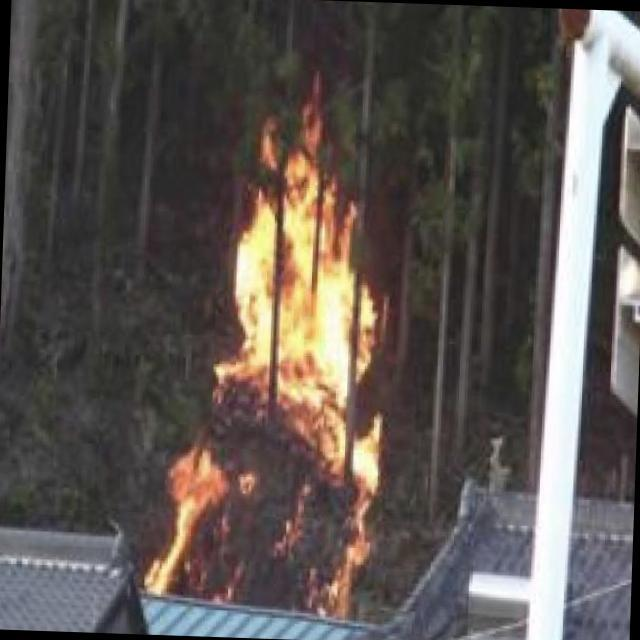Fire: (157, 101, 400, 618)
